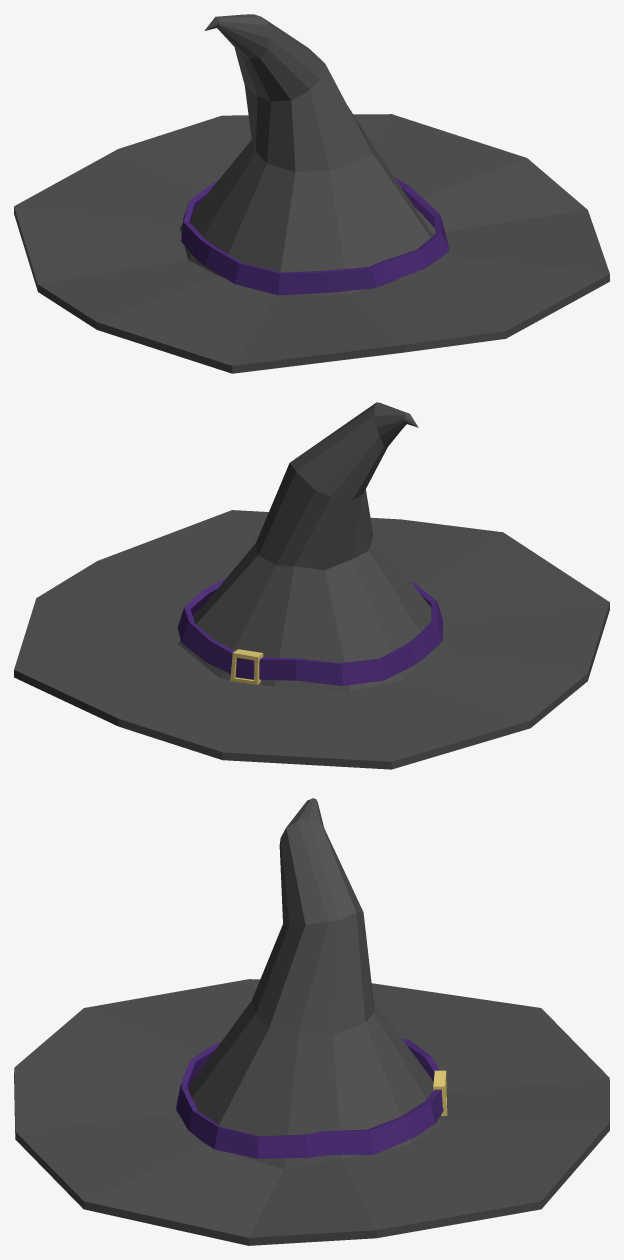
Rendered from Witch Hat.glb.
3 views of the same model, one above another, from view 1: azimuth 30°, elevation 25°; view 2: azimuth 150°, elevation 25°; view 3: azimuth 270°, elevation 25° (orthographic). The views are drawn at different scales.
Visible parts, largest first — view 1: Witch_Hat_Plane.001; view 2: Witch_Hat_Plane.001; view 3: Witch_Hat_Plane.001.
Part boxes in pixels (x1=…): Witch_Hat_Plane.001: x1=14, y1=14, x2=609, y2=373; Witch_Hat_Plane.001: x1=14, y1=402, x2=609, y2=769; Witch_Hat_Plane.001: x1=14, y1=798, x2=609, y2=1245.
Size of the model in its own units: 1 by 0.5125 by 1.
